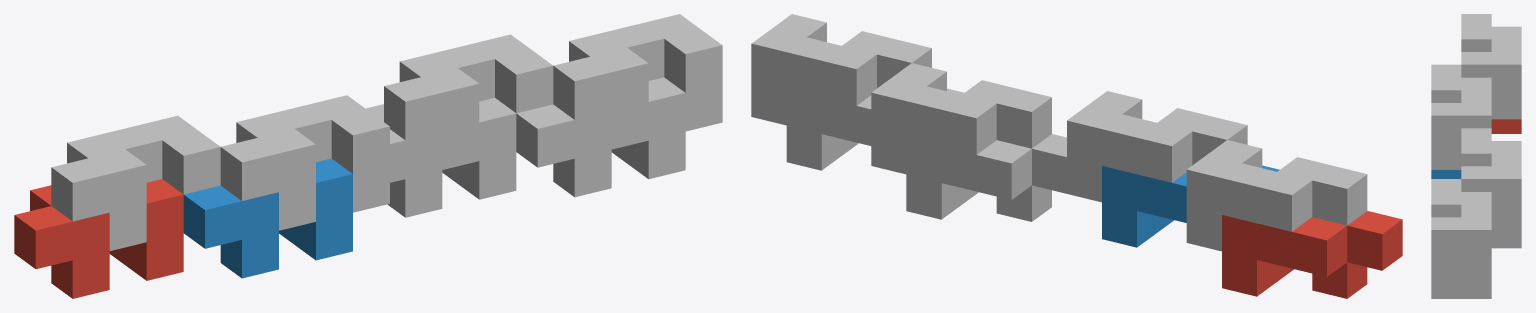
The model's file is tiling.obj.
3 renders of one model, left to right at view 1: azimuth 30°, elevation 25°; view 2: azimuth 150°, elevation 25°; view 3: azimuth 270°, elevation 25°, orthographic. The views are drawn at different scales.
Parts seen in each view (by area): view 1: copy_1_domain_8, copy_1_domain_4, copy_1_domain_7, copy_1_domain_3, copy_1_domain_1, copy_1_domain_6, copy_1_domain_2, copy_1_domain_5; view 2: copy_1_domain_3, copy_1_domain_7, copy_1_domain_1, copy_1_domain_8, copy_1_domain_4, copy_1_domain_5, copy_1_domain_6, copy_1_domain_2; view 3: copy_1_domain_8, copy_1_domain_3, copy_1_domain_4, copy_1_domain_7, copy_1_domain_6, copy_1_domain_5, copy_1_domain_1, copy_1_domain_2.
Boxes of the visible parts, x1,y1,x2,y2 form: copy_1_domain_8: (553, 14, 722, 149); copy_1_domain_4: (220, 95, 389, 230); copy_1_domain_7: (384, 34, 553, 169); copy_1_domain_3: (51, 115, 220, 250); copy_1_domain_1: (14, 179, 183, 298); copy_1_domain_6: (516, 77, 685, 197); copy_1_domain_2: (183, 158, 352, 278); copy_1_domain_5: (365, 98, 516, 217); copy_1_domain_3: (1186, 140, 1367, 251); copy_1_domain_7: (871, 63, 1051, 174); copy_1_domain_1: (1222, 211, 1402, 298); copy_1_domain_8: (751, 14, 931, 125); copy_1_domain_4: (1067, 91, 1247, 202); copy_1_domain_5: (906, 134, 1066, 221); copy_1_domain_6: (786, 88, 964, 170); copy_1_domain_2: (1102, 165, 1279, 247); copy_1_domain_8: (1431, 179, 1491, 284); copy_1_domain_3: (1461, 14, 1521, 119); copy_1_domain_4: (1431, 64, 1491, 169); copy_1_domain_7: (1461, 128, 1521, 233); copy_1_domain_6: (1431, 284, 1491, 298); copy_1_domain_5: (1491, 233, 1521, 248); copy_1_domain_1: (1491, 119, 1521, 133); copy_1_domain_2: (1431, 170, 1461, 178).
Size of the model in its own units: 18 by 3 by 3.
